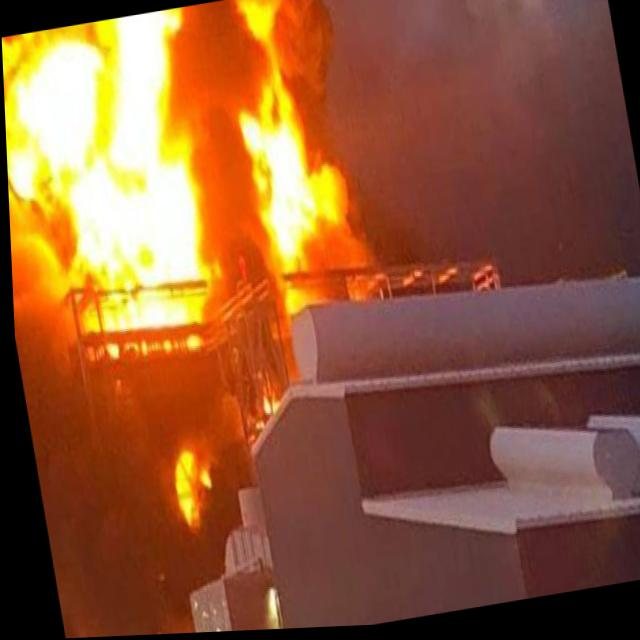fire: (1, 8, 241, 383), (211, 0, 371, 317), (153, 433, 217, 544)
